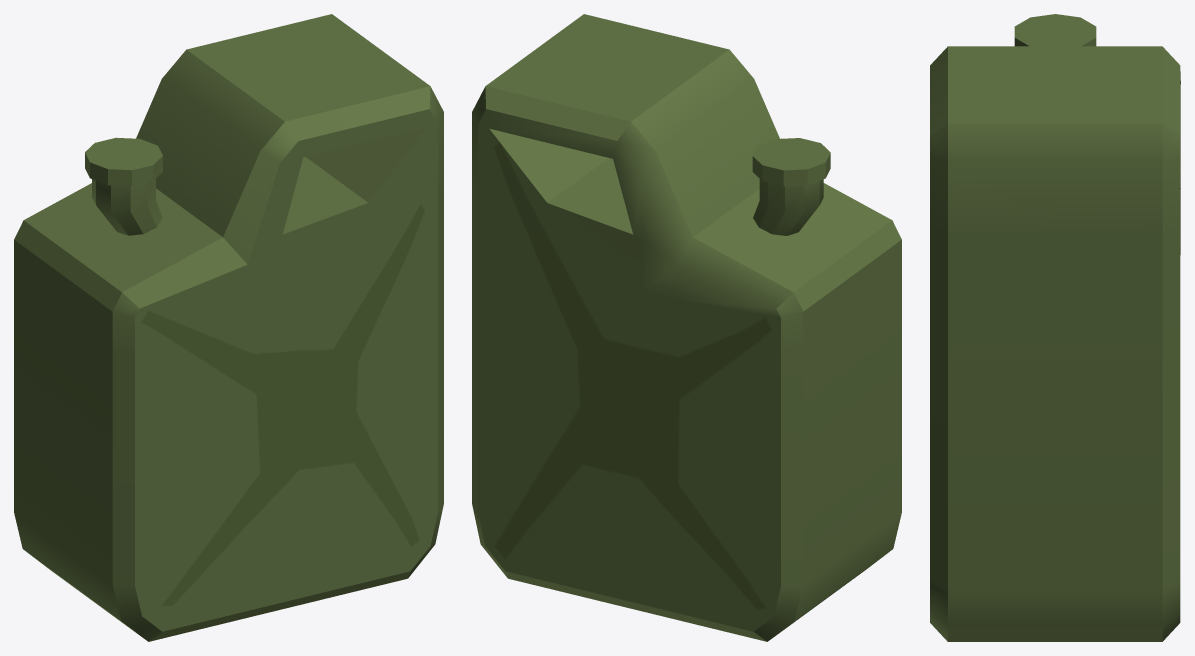
The model's file is petrol.fbx.
3 renders of one model, left to right at view 1: azimuth 30°, elevation 25°; view 2: azimuth 150°, elevation 25°; view 3: azimuth 270°, elevation 25°, orthographic. The views are drawn at different scales.
Visible parts, largest first — view 1: petrol; view 2: petrol; view 3: petrol.
Part boxes in pixels (bbox=[...]): petrol: bbox=[14, 14, 443, 641]; petrol: bbox=[472, 14, 901, 641]; petrol: bbox=[930, 14, 1180, 641].
Size of the model in its own units: 1.34 by 1.89 by 0.8081.
1 material, 1 textured.
